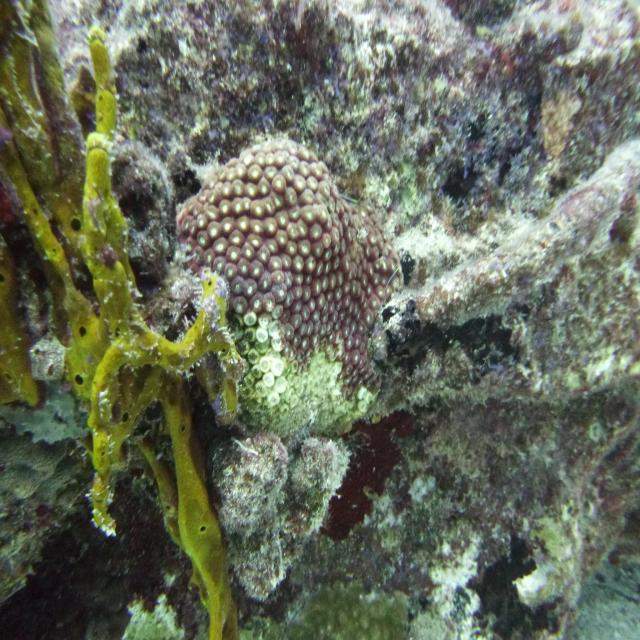Coral: (174, 132, 406, 436)
